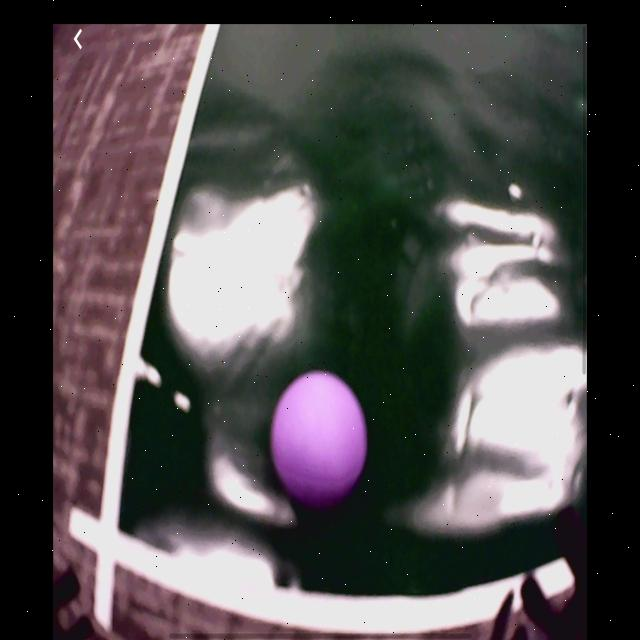ball: (272, 373, 367, 508)
